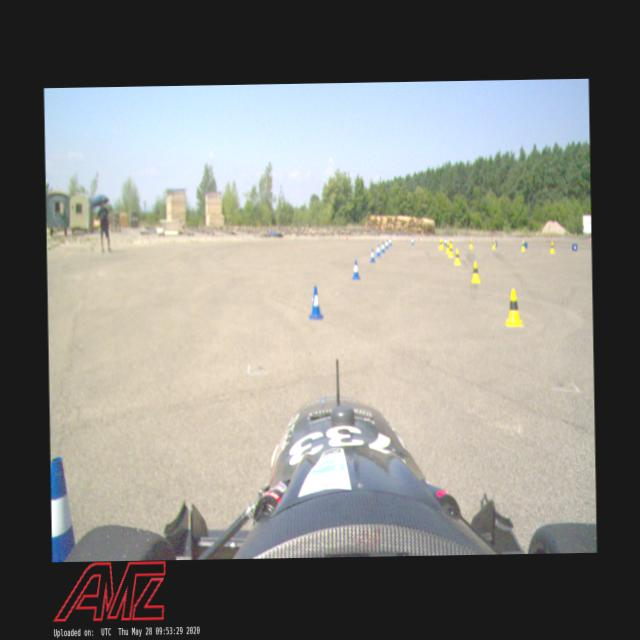blue_cone: (307, 284, 323, 320), (351, 259, 360, 280), (370, 247, 376, 262), (376, 244, 380, 256), (380, 241, 384, 253), (384, 238, 388, 248), (388, 237, 392, 246), (411, 236, 414, 244), (444, 237, 446, 246)
yellow_cone: (504, 288, 524, 326), (470, 260, 480, 284), (453, 248, 461, 266), (448, 245, 453, 258), (550, 240, 554, 253), (521, 239, 525, 251), (445, 241, 449, 253), (468, 238, 472, 248), (491, 239, 495, 249), (438, 239, 442, 249), (450, 237, 452, 247)
